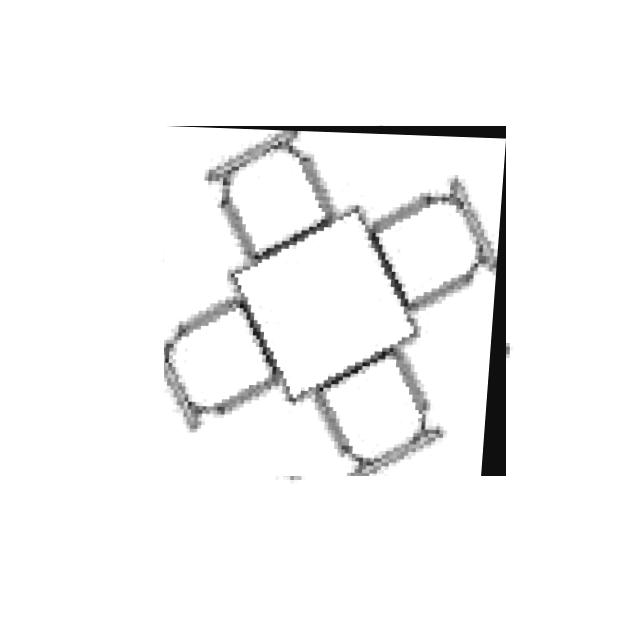table: (164, 126, 506, 476)
